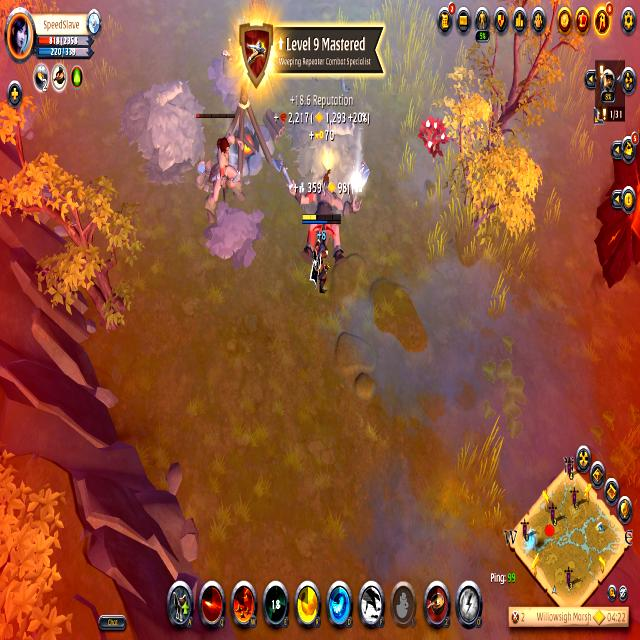hide: (416, 102, 453, 164)
ore: (192, 112, 250, 226)
red: (301, 214, 344, 296)
stone: (350, 163, 369, 205)
